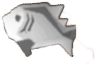fish1: (1, 1, 85, 65)
